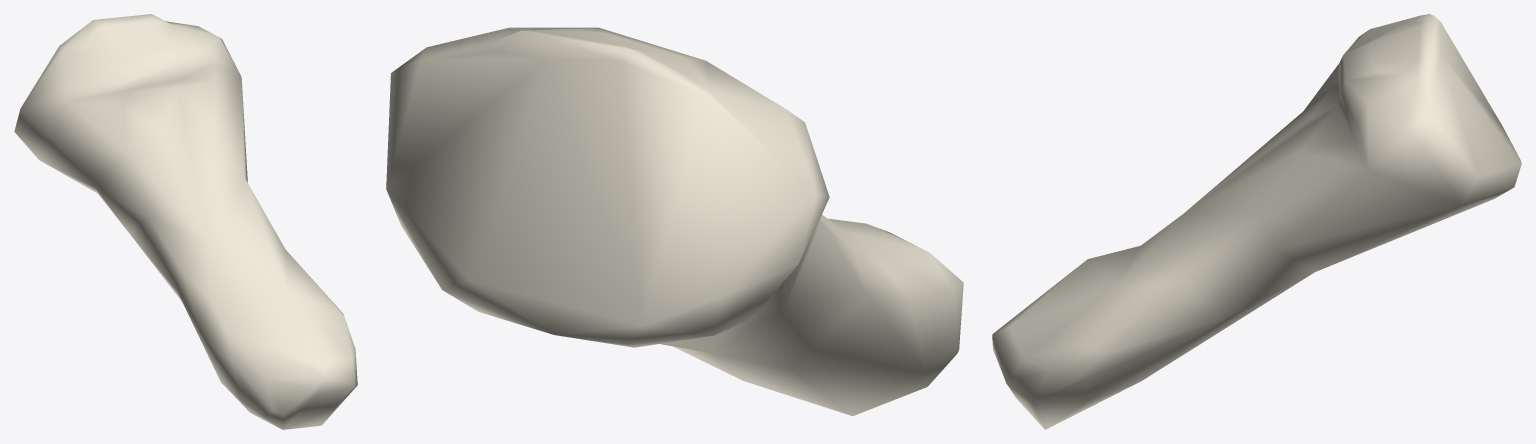
The picture shows the model from 3 angles, left to right: view 1: azimuth 30°, elevation 25°; view 2: azimuth 150°, elevation 25°; view 3: azimuth 270°, elevation 25°; orthographic projection. The views are drawn at different scales.
Visible parts, largest first — view 1: ZA_f6f3b71c5c8c033b; view 2: ZA_f6f3b71c5c8c033b; view 3: ZA_f6f3b71c5c8c033b.
Boxes of the visible parts, x1,y1,x2,y2 form: ZA_f6f3b71c5c8c033b: [14, 14, 357, 429]; ZA_f6f3b71c5c8c033b: [386, 27, 963, 416]; ZA_f6f3b71c5c8c033b: [992, 14, 1521, 429].
Size of the model in its own units: 0.00986 by 0.0139 by 0.0179.
